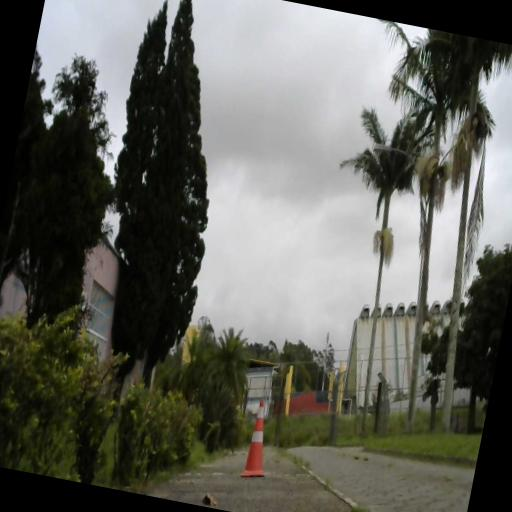cone: (241, 395, 278, 482)
